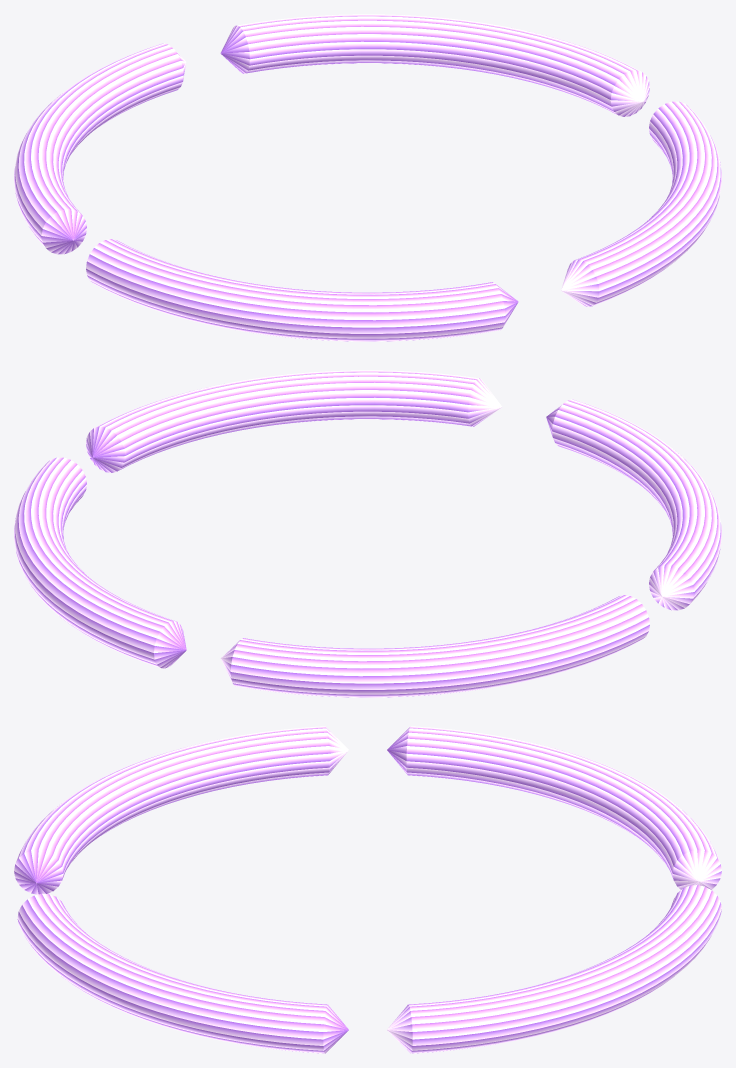
File: RingThree.gltf
3 renders of one model, top to bottom at view 1: azimuth 30°, elevation 25°; view 2: azimuth 150°, elevation 25°; view 3: azimuth 270°, elevation 25°, orthographic.
Parts seen in each view (by area): view 1: Object 4; view 2: Object 4; view 3: Object 4.
Part boxes in pixels (left/top/right/bottom): Object 4: left=14, top=14, right=721, bottom=341; Object 4: left=14, top=370, right=721, bottom=697; Object 4: left=14, top=726, right=721, bottom=1053.
Size of the model in its own units: 0.0853 by 0.006 by 0.0853.
1 material, 1 textured.
